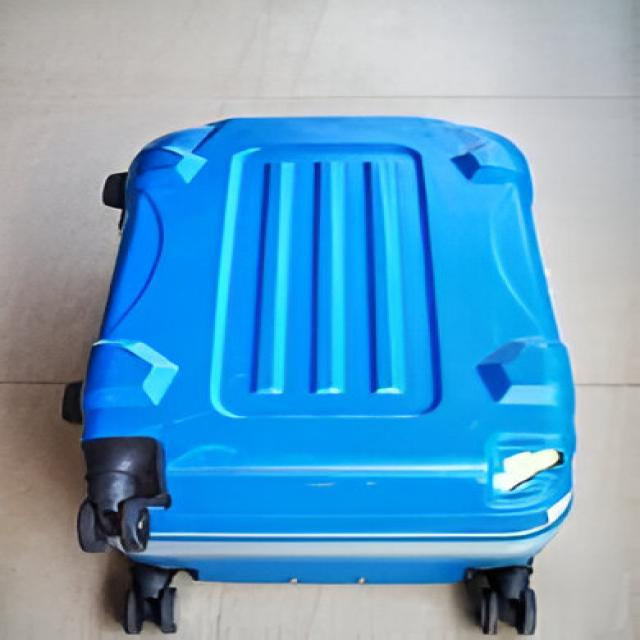Damage-bag: (487, 434, 571, 524)
